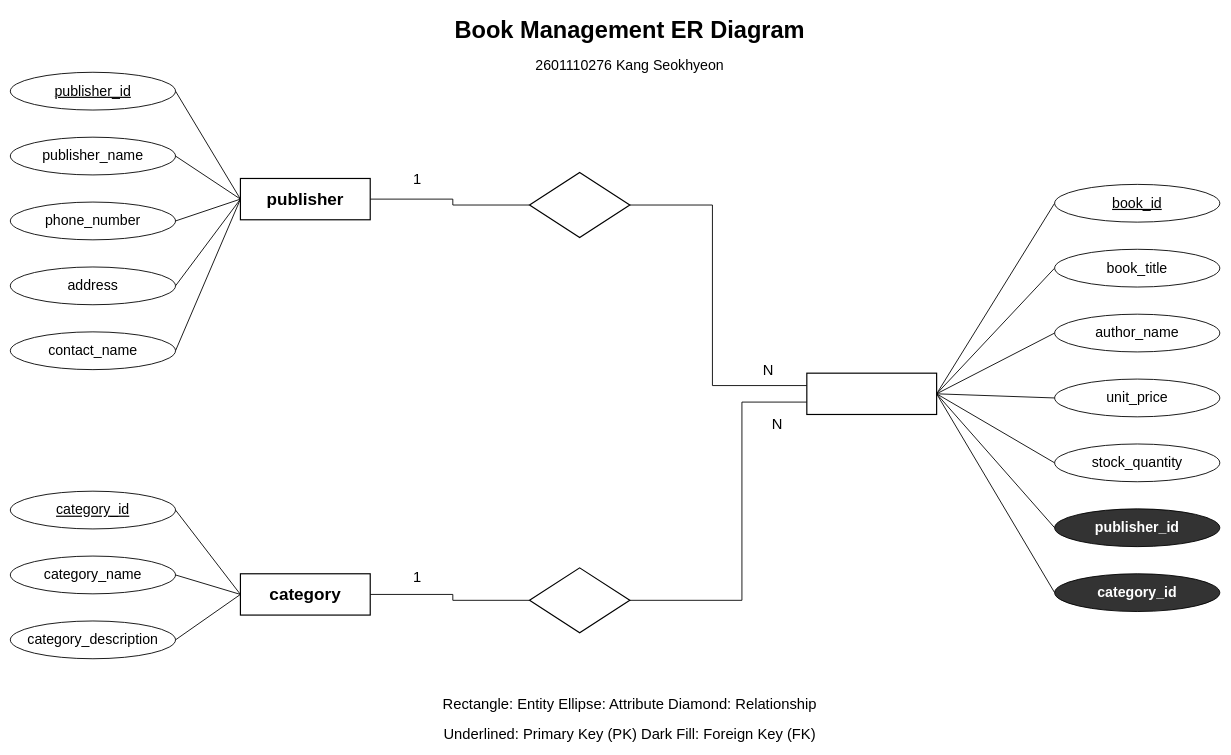
The diagram is 1231 pixels wide and 755 high, and some of its shapes have lost their labels. The box of each missing label's shape, as (x1, y1, x2, y2) in pixels:
book: (806, 372, 937, 415)
classifies: (529, 567, 630, 633)
supplies: (529, 172, 630, 238)
